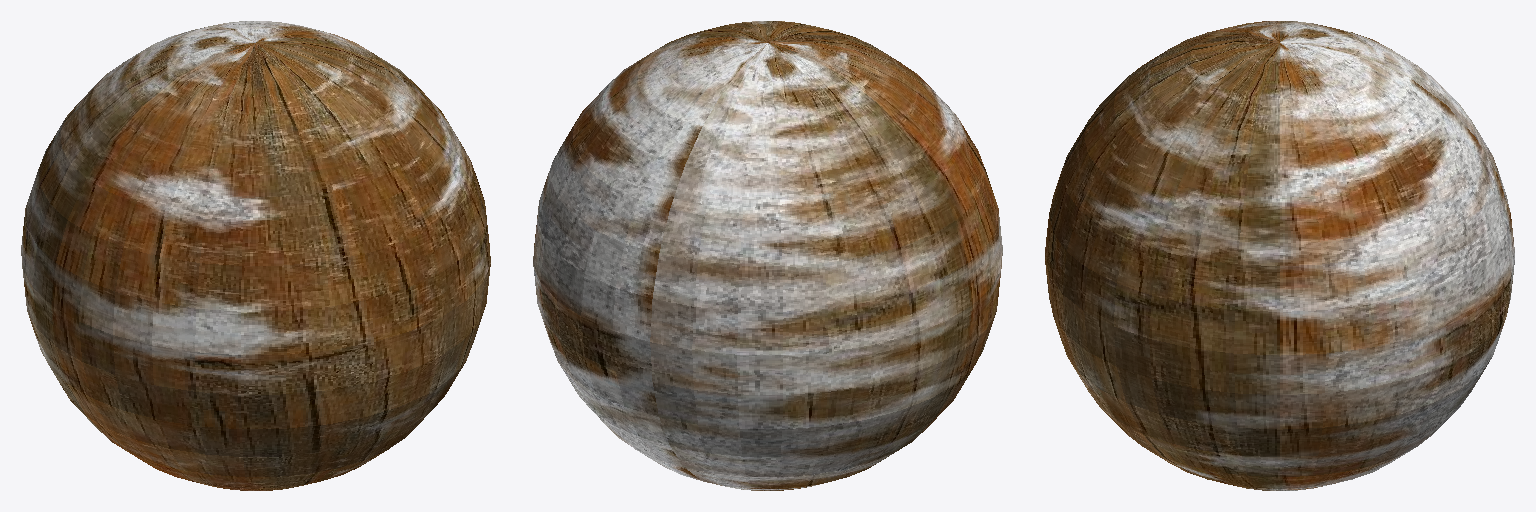
3 renders of one model, left to right at view 1: azimuth 30°, elevation 25°; view 2: azimuth 150°, elevation 25°; view 3: azimuth 270°, elevation 25°, orthographic.
Parts seen in each view (by area): view 1: Sphere001; view 2: Sphere001; view 3: Sphere001.
Part boxes in pixels (x1,y1,x2,y2): Sphere001: (21, 21, 490, 490); Sphere001: (533, 21, 1002, 490); Sphere001: (1045, 21, 1514, 490).
Size of the model in its own units: 2.02 by 2.02 by 2.02.
Materials: 1 (1 with a texture image).